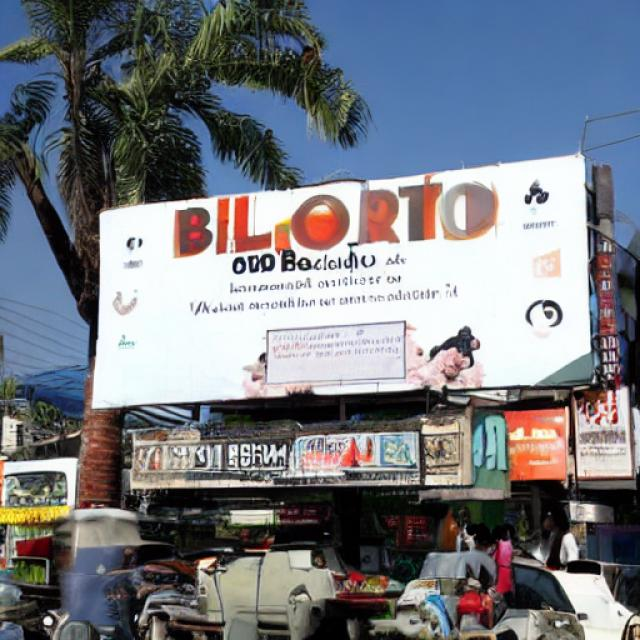Billboard: (86, 149, 592, 416)
